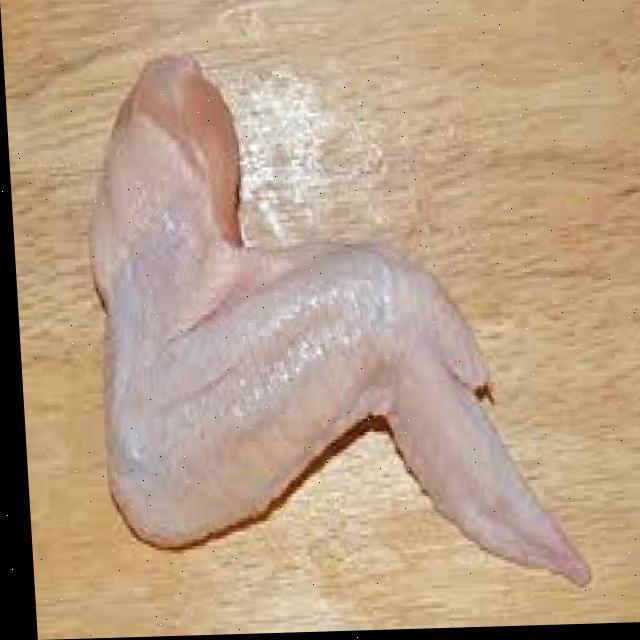wing: (51, 41, 572, 586)
